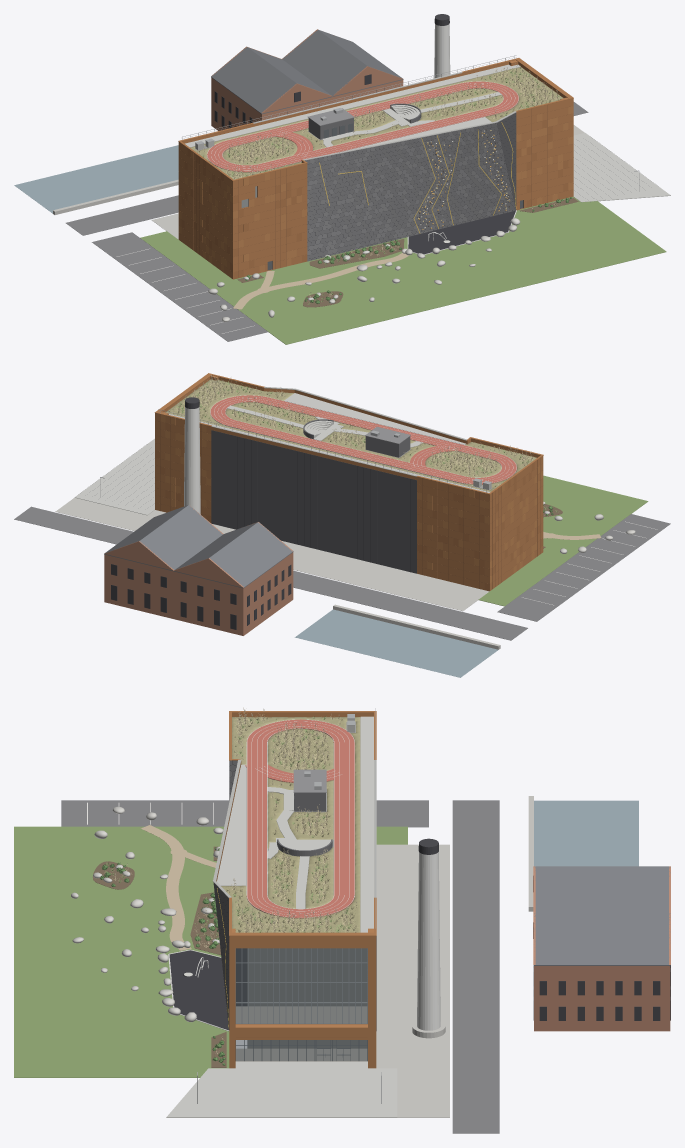
File: clay-climbing-crucible-clay-v004.glb
3 renders of one model, top to bottom at view 1: azimuth 30°, elevation 25°; view 2: azimuth 150°, elevation 25°; view 3: azimuth 270°, elevation 25°, orthographic. The views are drawn at different scales.
Parts seen in each view (by area): view 1: CLAY_LAWN, CLAY_CORTEN, CLAY_HEX, CLAY_PAVING, CLAY_ASPHALT, CLAY_SLATE, CLAY_MEADOW, CLAY_HEX2, CLAY_TRACK, CLAY_WATER, CLAY_BRICK, CLAY_JOINT (+15 smaller); view 2: CLAY_WALL, CLAY_CORTEN, CLAY_ASPHALT, CLAY_BRICK, CLAY_CONCRETE, CLAY_SLATE, CLAY_MEADOW, CLAY_LAWN, CLAY_WATER, CLAY_PAVING, CLAY_TRACK, CLAY_JOINT (+8 smaller); view 3: CLAY_LAWN, CLAY_ASPHALT, CLAY_PAVING, CLAY_CONCRETE, CLAY_SLATE, CLAY_GLASS, CLAY_MEADOW, CLAY_TRACK, CLAY_BRICK, CLAY_HALLWALL, CLAY_WATER, CLAY_CORTEN (+16 smaller).
Boxes of the visible parts, x1,y1,x2,y2 form: CLAY_LAWN: [140, 196, 666, 344]; CLAY_CORTEN: [178, 60, 573, 279]; CLAY_HEX: [305, 123, 515, 261]; CLAY_PAVING: [185, 64, 670, 202]; CLAY_ASPHALT: [66, 102, 588, 341]; CLAY_SLATE: [211, 29, 403, 114]; CLAY_MEADOW: [190, 67, 563, 179]; CLAY_HEX2: [305, 123, 515, 255]; CLAY_TRACK: [207, 81, 518, 172]; CLAY_WATER: [14, 145, 178, 213]; CLAY_BRICK: [211, 29, 403, 130]; CLAY_JOINT: [214, 14, 516, 259]; CLAY_WALL: [211, 430, 416, 573]; CLAY_CORTEN: [155, 375, 543, 590]; CLAY_ASPHALT: [14, 506, 670, 640]; CLAY_BRICK: [104, 506, 293, 635]; CLAY_CONCRETE: [55, 497, 500, 649]; CLAY_SLATE: [104, 505, 293, 588]; CLAY_MEADOW: [165, 379, 536, 491]; CLAY_LAWN: [478, 475, 648, 606]; CLAY_WATER: [295, 609, 498, 677]; CLAY_PAVING: [74, 393, 490, 515]; CLAY_TRACK: [210, 395, 516, 484]; CLAY_JOINT: [111, 397, 410, 629]; CLAY_LAWN: [14, 826, 407, 1077]; CLAY_ASPHALT: [61, 800, 499, 1133]; CLAY_PAVING: [166, 716, 397, 1117]; CLAY_CONCRETE: [376, 796, 533, 1117]; CLAY_SLATE: [533, 866, 670, 965]; CLAY_GLASS: [235, 948, 367, 1061]; CLAY_MEADOW: [221, 717, 360, 932]; CLAY_TRACK: [245, 719, 355, 918]; CLAY_BRICK: [533, 866, 670, 1031]; CLAY_HALLWALL: [247, 948, 367, 1048]; CLAY_WATER: [534, 800, 638, 866]; CLAY_CORTEN: [216, 712, 376, 1068].
Size of the model in its own units: 150 by 39.6 by 125.
